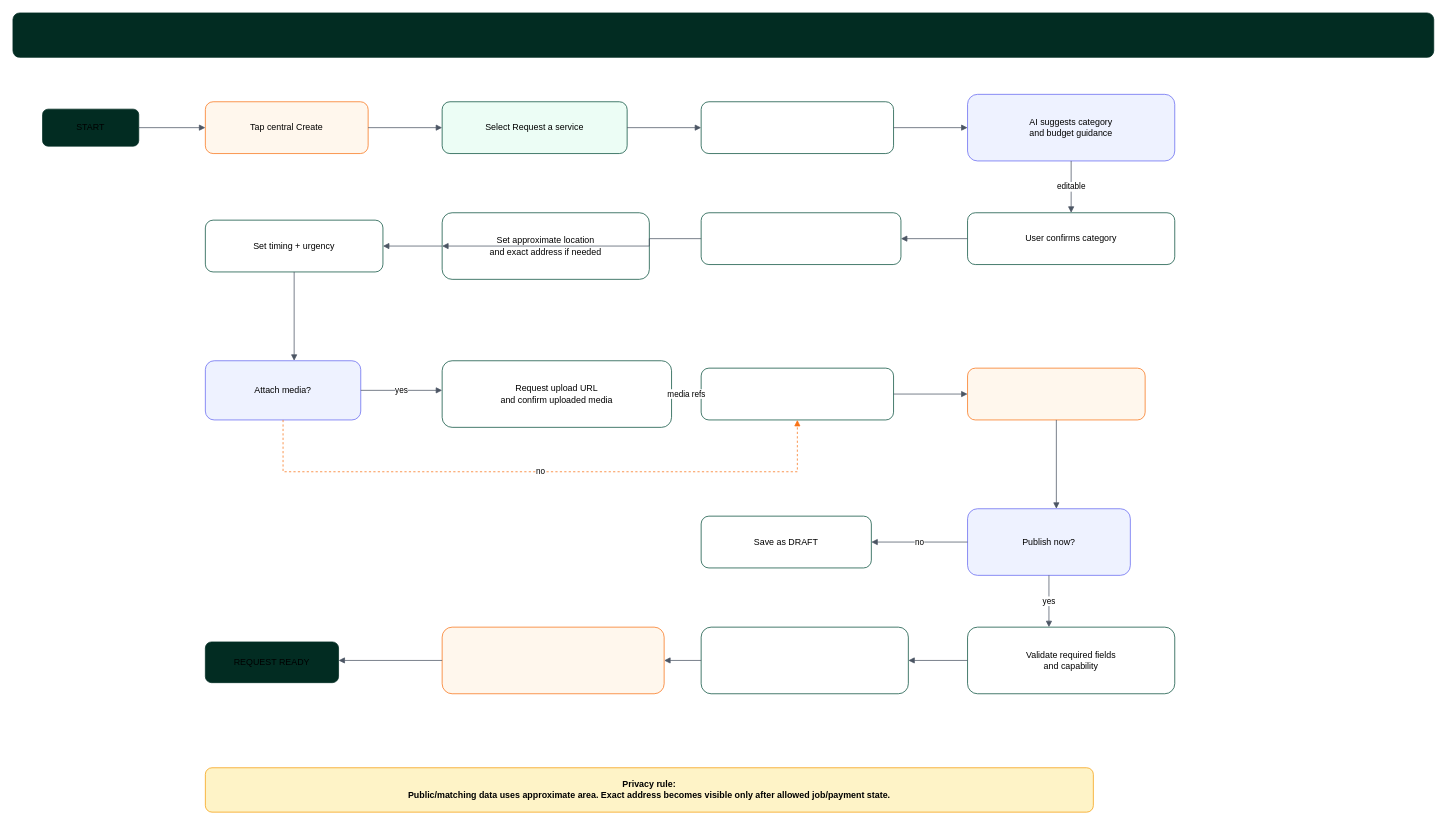
Some shapes in this 1447 by 825 pixel diagram are drawn without their labels. Each missing label, with the box of its shape:
Choose budget mode/range: (700, 212, 901, 265)
Emit events ServiceRequestPublished MatchingRequested: (441, 626, 664, 694)
Enter title + description: (700, 101, 894, 154)
Persist PUBLISHED request + outbox: (700, 626, 908, 694)
Preview request: (967, 367, 1145, 420)
Set visibility/matching: (700, 367, 894, 420)
Viaverse Request Creation — Activity Diagram: (12, 12, 1434, 57)
